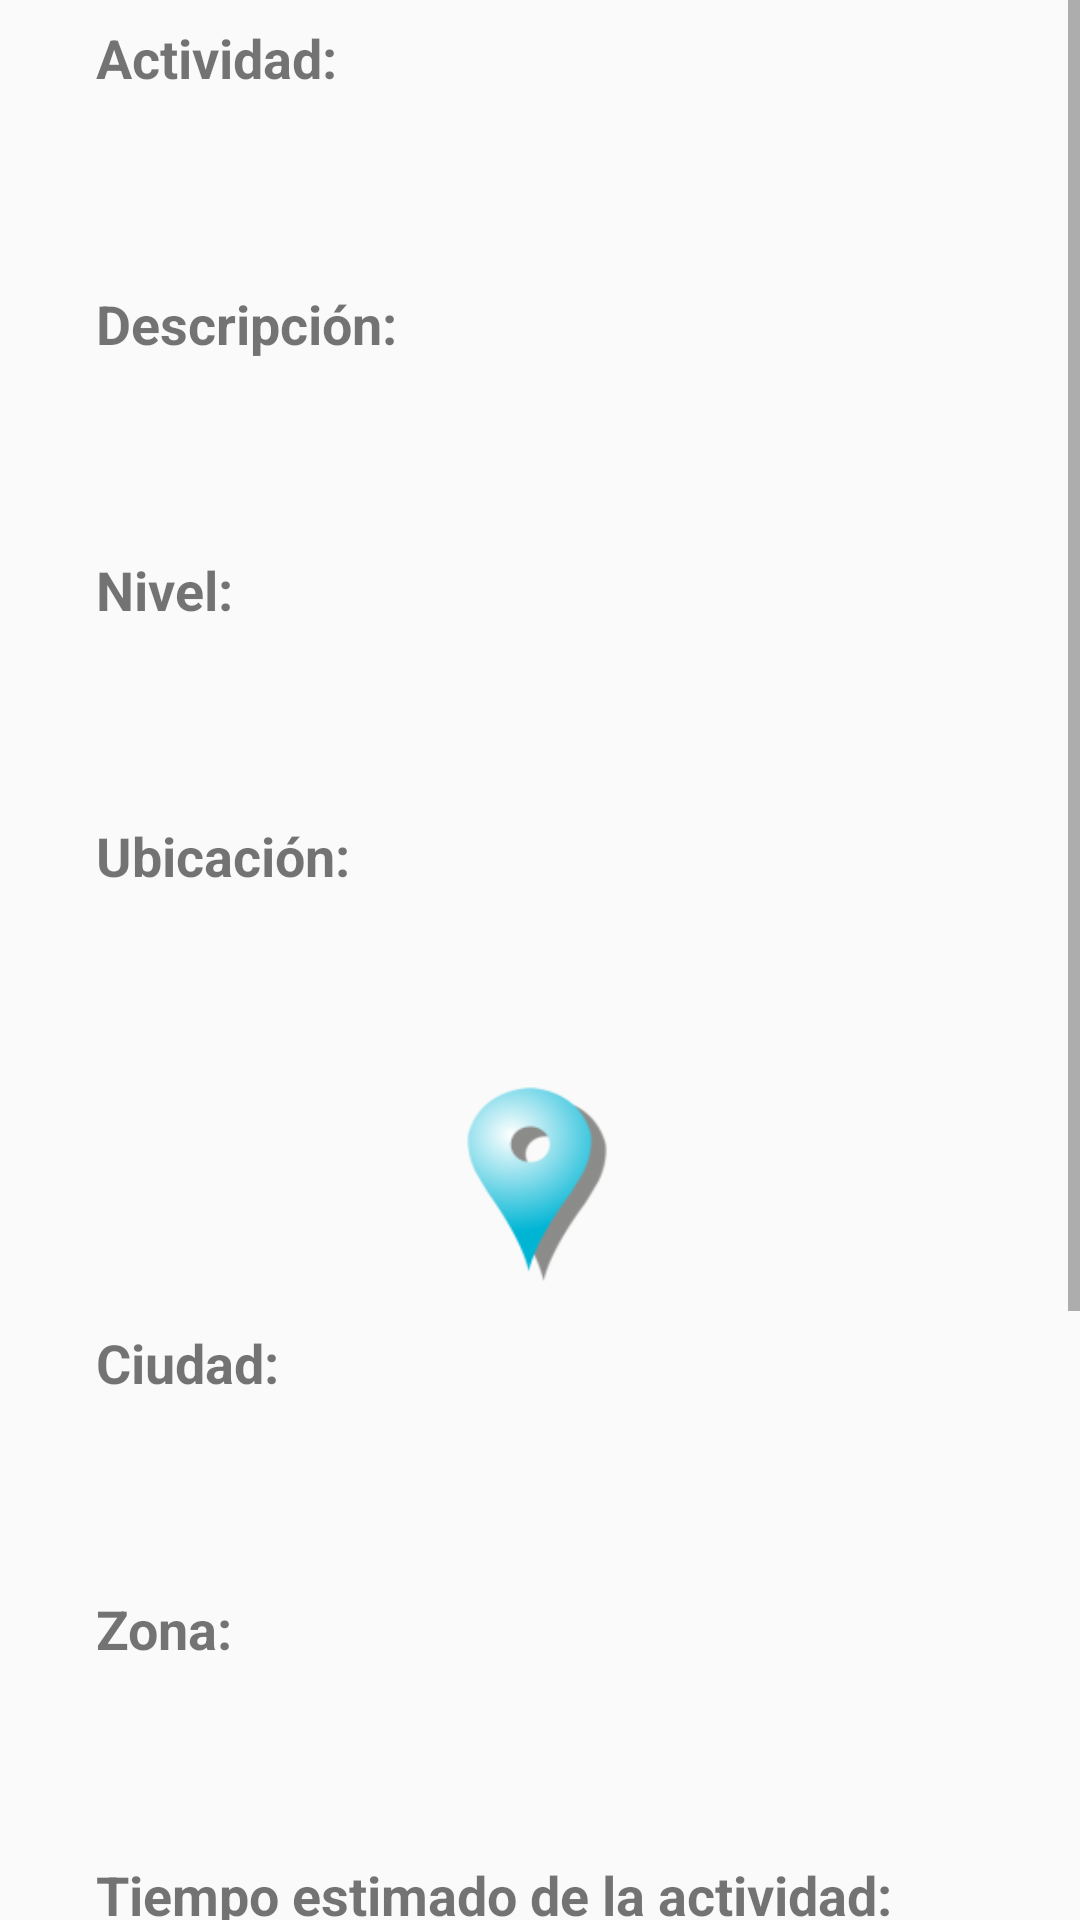

Icons on this 1080×1920 Android screen, each with the point to tap as (x=x, y=y):
ubication: (x=537, y=1183)
